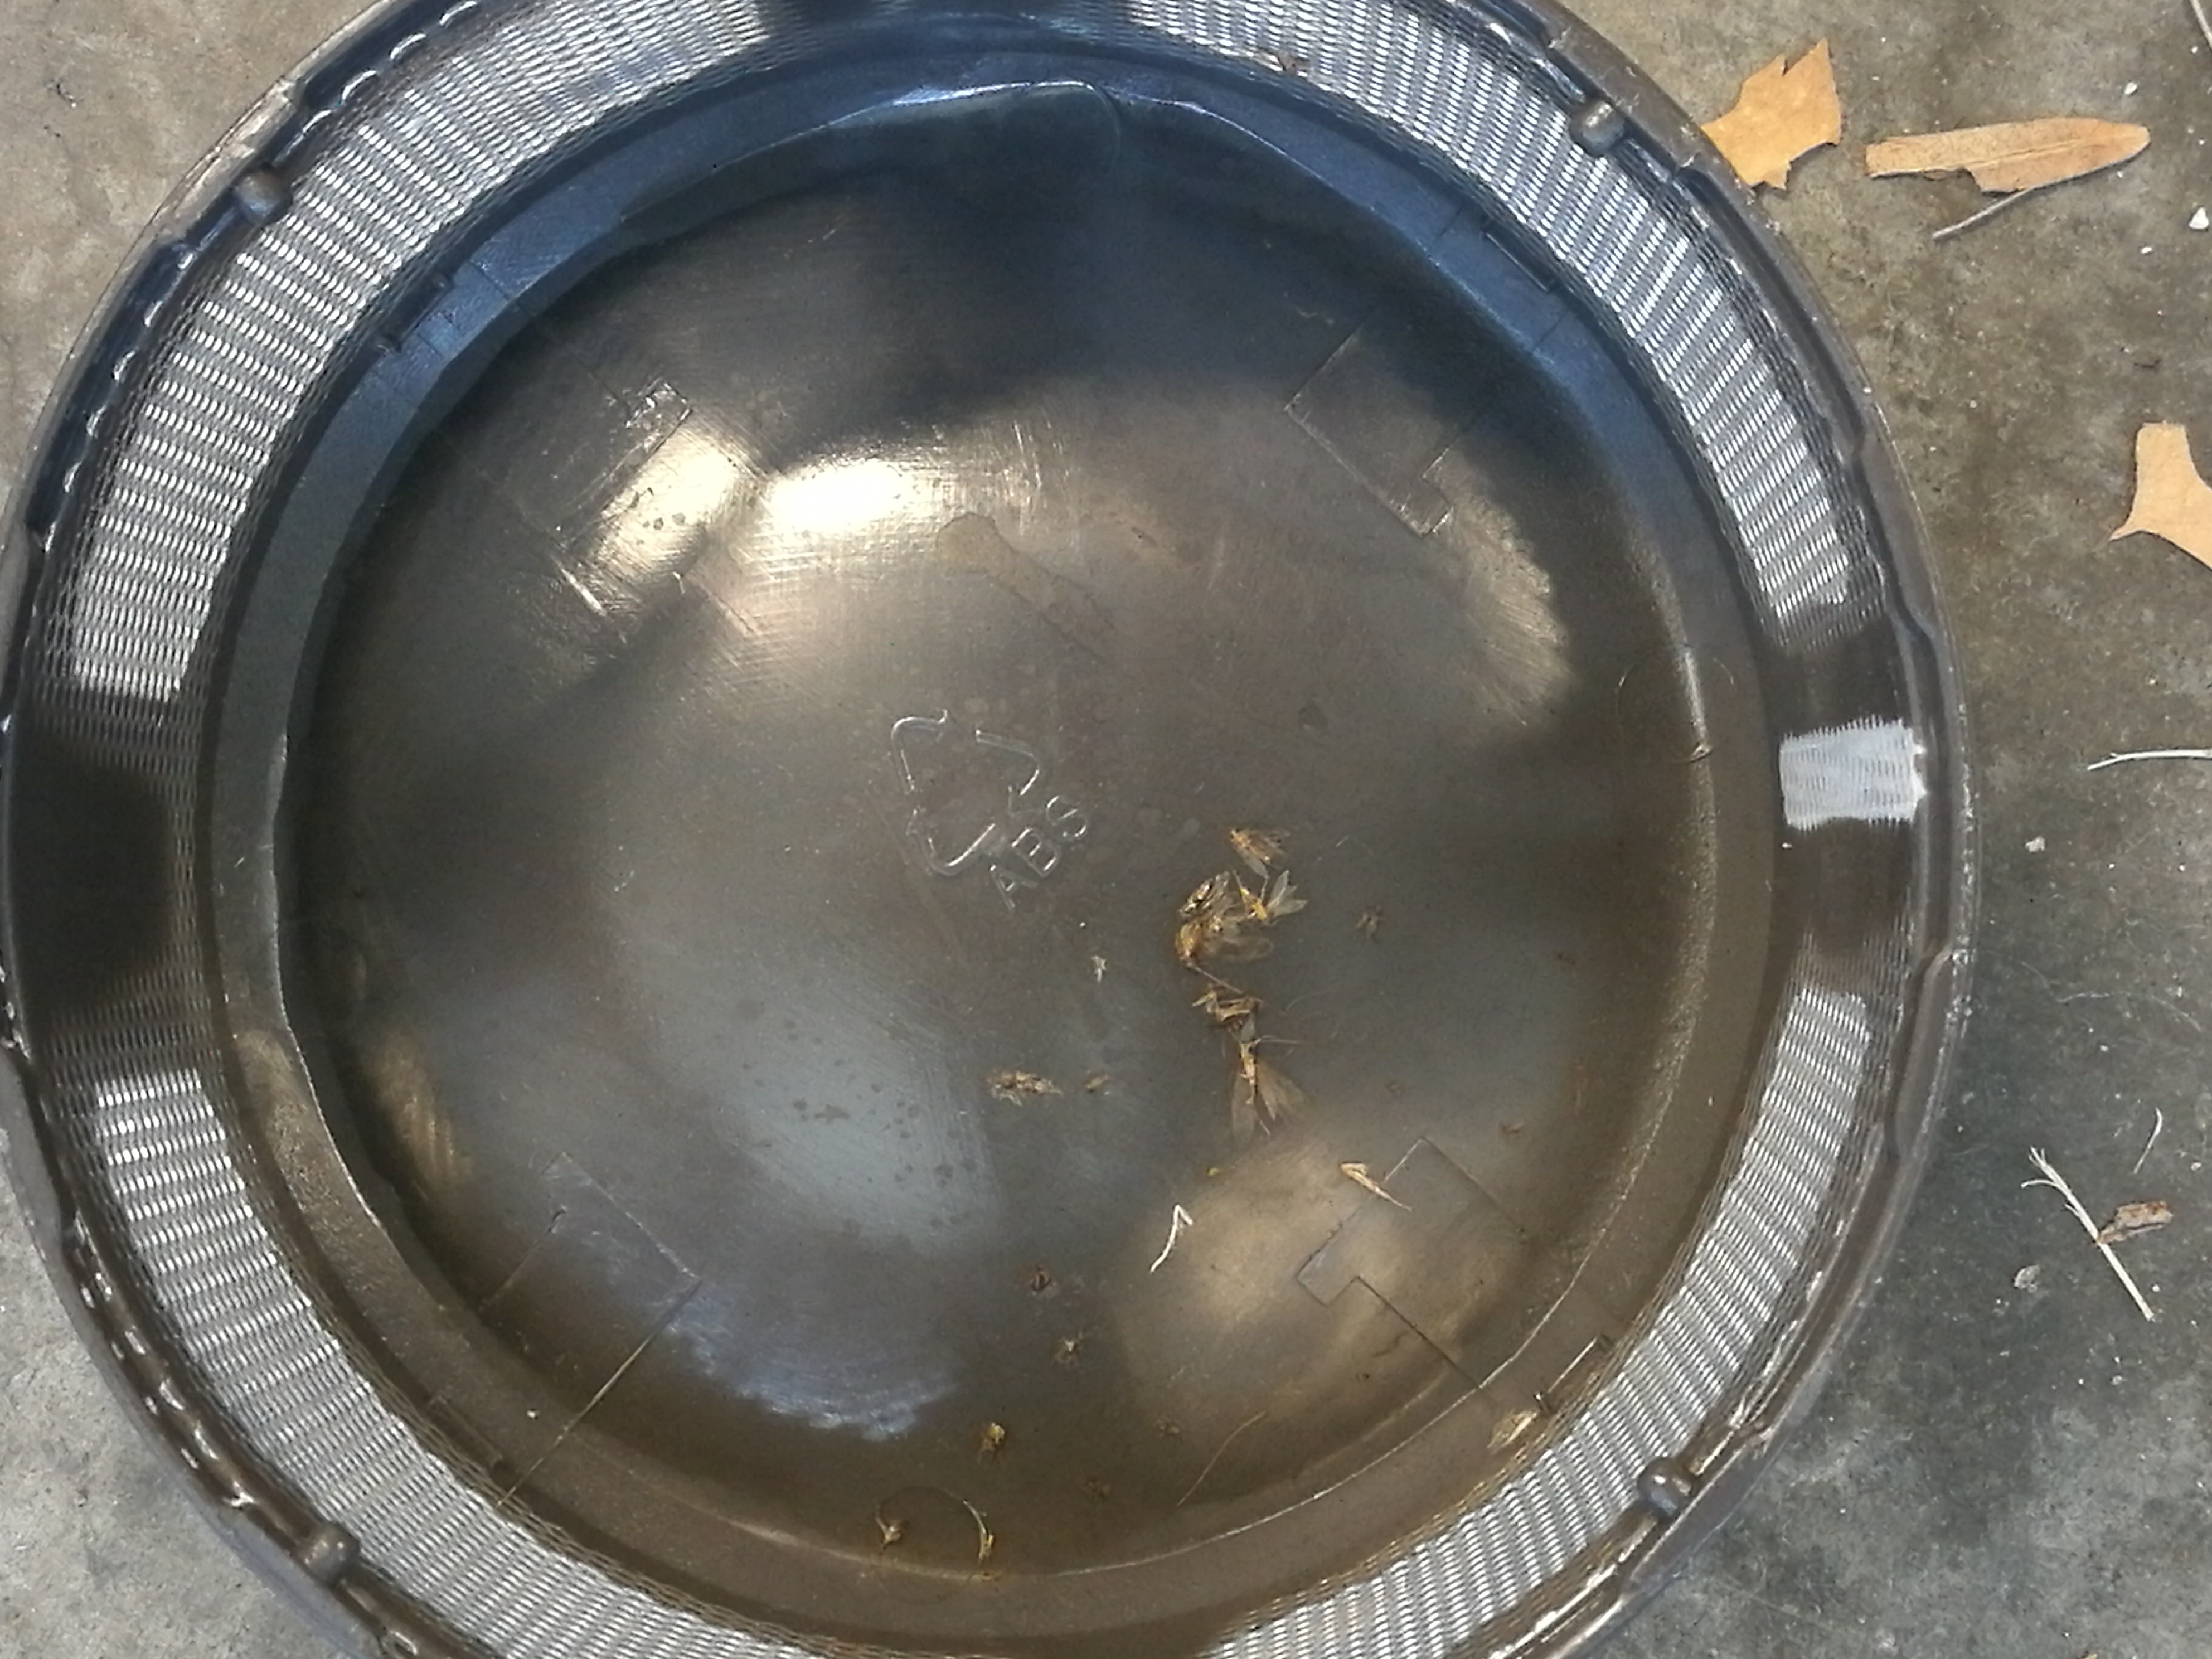mosquito: (1197, 993, 1261, 1044), (1226, 826, 1287, 878), (1244, 877, 1306, 917)
moth: (1177, 882, 1275, 965), (1233, 1051, 1312, 1145)
